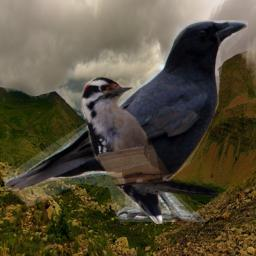Crow: (4, 20, 248, 222)
Woodpecker: (81, 77, 219, 224)
